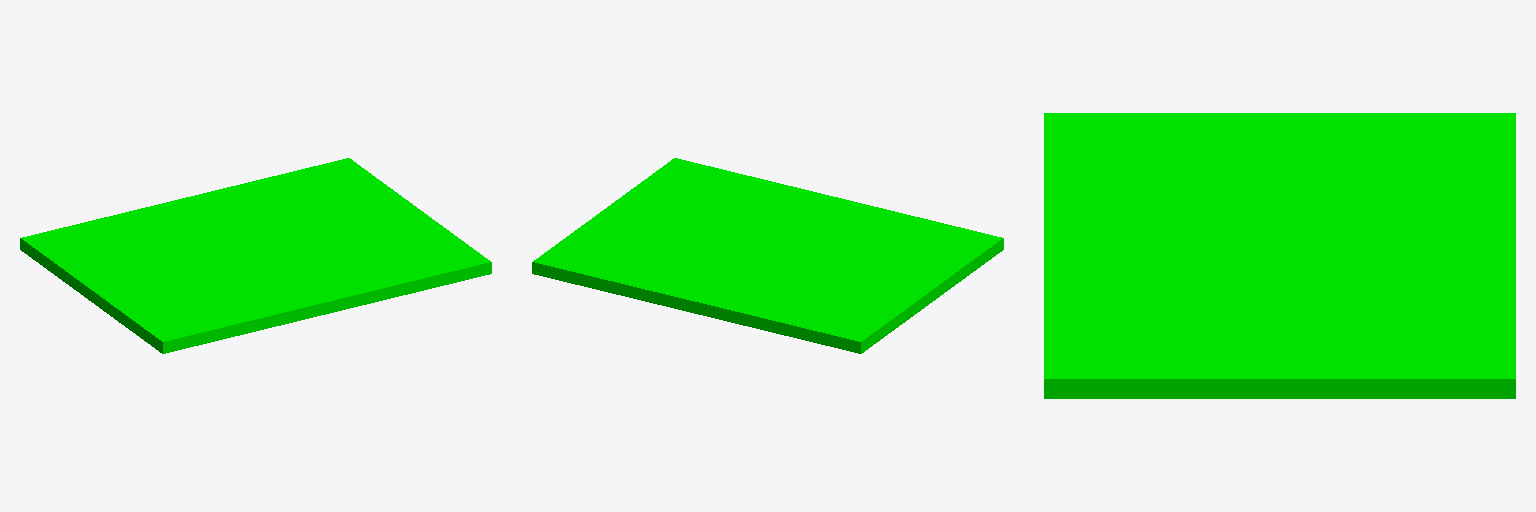
The robot description file, URDF, robot "obstacle":
<?xml version="0.0" ?>
<robot name="obstacle">
    <link name="base_link">
    <contact>
      <lateral_friction value="1"/>
    </contact>
    <inertial>
      <origin rpy="0 0 0" xyz="1.5 0 0"/>
       <mass value="0.01"/>
       <inertia ixx="0" ixy="0" ixz="0" iyy="0" iyz="0" izz="0"/>
    </inertial>
      <visual>
        <origin rpy="0 0 0" xyz="1.5 0 0"/>
        <geometry>
          <box size="2 1.5 0.07" />
        </geometry>
        <material name="green">
        <color rgba="0 1 0 1"/>
      </material>
      </visual>
      <collision>
      <origin rpy="0 0 0" xyz="1.5 0 0"/>
          <geometry>
            <box size="2 1.5 0.07" />
          </geometry>
      </collision>
    </link>
</robot>

--- Facts derived from the render (not from the file) ---
3 views of the same robot in one strip: view 1: azimuth 30°, elevation 25°; view 2: azimuth 150°, elevation 25°; view 3: azimuth 270°, elevation 25° (orthographic).
Robot: obstacle — 1 links, 0 joints (none); root link base_link; default pose: all joints at 0.
Visible links, largest first — view 1: base_link; view 2: base_link; view 3: base_link.
Boxes of the visible links, <box> form: base_link: <box>20,158,491,353</box>; base_link: <box>532,158,1003,353</box>; base_link: <box>1044,113,1515,398</box>.
Bounding box of the posed robot: 2 × 1.5 × 0.07 m (x, y, z).
Geometry: primitives only (box / cylinder / sphere), no mesh files.